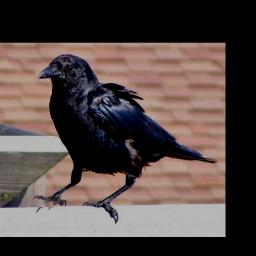Crow: (34, 54, 217, 224)
